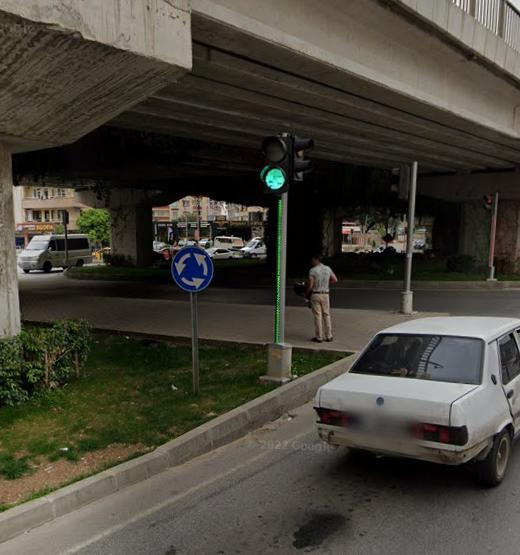crossroads: (171, 247, 215, 293)
greenlight: (260, 133, 291, 195)
